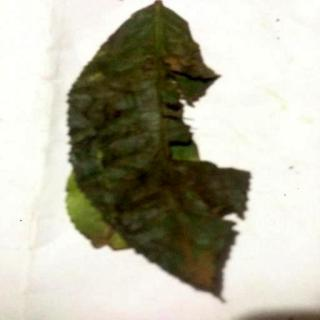Red Leaf Spot: (68, 1, 253, 299)
